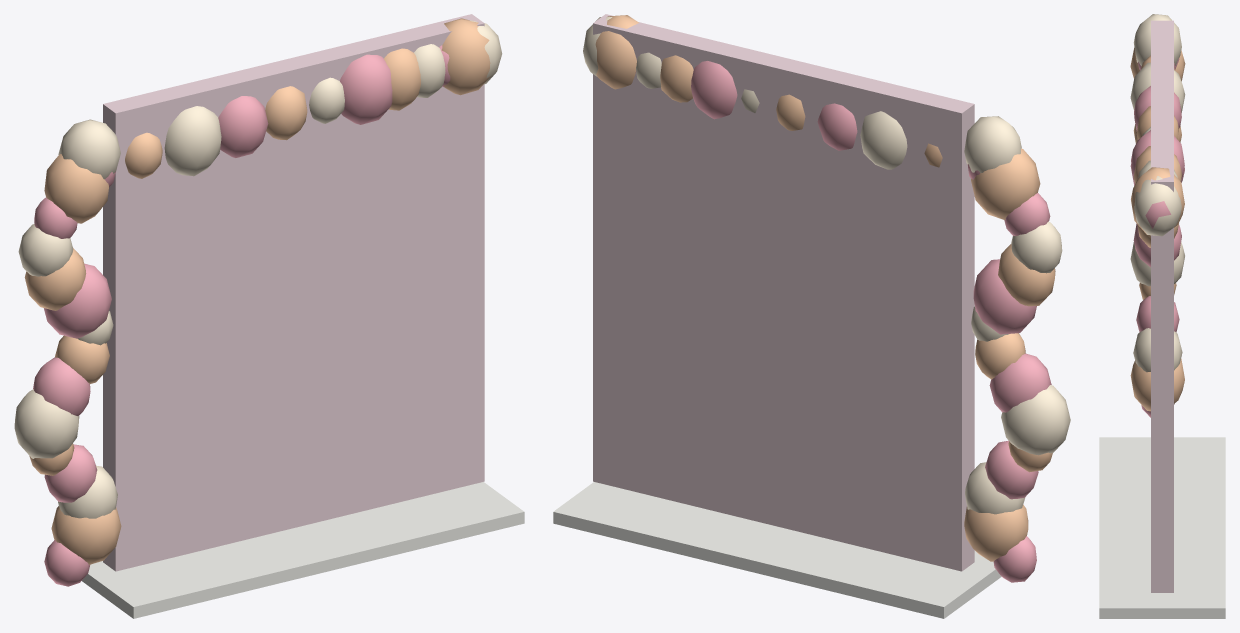
File: backdrop-balloon-garland.glb
3 views of the same model, side by side, from view 1: azimuth 30°, elevation 25°; view 2: azimuth 150°, elevation 25°; view 3: azimuth 270°, elevation 25° (orthographic). The views are drawn at different scales.
Visible parts, largest first — view 1: BS_PhotoWall, BS_WallFoot, BS_Balloon_05, BS_Balloon_17, BS_Balloon_21, BS_Balloon_13, BS_Balloon_25, BS_Balloon_09, BS_Balloon_01, BS_Balloon_14, BS_Balloon_18, BS_Balloon_06 (+14 smaller); view 2: BS_PhotoWall, BS_WallFoot, BS_Balloon_05, BS_Balloon_13, BS_Balloon_09, BS_Balloon_01, BS_Balloon_14, BS_Balloon_06, BS_Balloon_25, BS_Balloon_17, BS_Balloon_21, BS_Balloon_10 (+10 smaller); view 3: BS_WallFoot, BS_PhotoWall, BS_Balloon_26, BS_Balloon_01, BS_Balloon_14, BS_Balloon_02, BS_Balloon_17, BS_Balloon_05, BS_Balloon_25, BS_Balloon_21, BS_Balloon_18, BS_Balloon_06 (+5 smaller).
Part boxes in pixels (x1,y1,x2,y2): BS_PhotoWall: (103, 14, 484, 571); BS_WallFoot: (82, 482, 524, 618); BS_Balloon_05: (14, 389, 79, 458); BS_Balloon_17: (164, 106, 221, 176); BS_Balloon_21: (340, 54, 392, 124); BS_Balloon_13: (44, 154, 108, 223); BS_Balloon_25: (442, 18, 490, 95); BS_Balloon_09: (44, 263, 111, 338); BS_Balloon_01: (51, 506, 121, 564); BS_Balloon_14: (58, 119, 120, 179); BS_Balloon_18: (218, 96, 268, 157); BS_Balloon_06: (33, 357, 90, 415); BS_PhotoWall: (593, 14, 974, 571); BS_WallFoot: (553, 482, 1001, 618); BS_Balloon_05: (1001, 385, 1070, 455); BS_Balloon_13: (971, 148, 1040, 219); BS_Balloon_09: (973, 259, 1036, 334); BS_Balloon_01: (964, 504, 1028, 561); BS_Balloon_14: (964, 116, 1021, 173); BS_Balloon_06: (989, 353, 1051, 412); BS_Balloon_25: (595, 15, 638, 89); BS_Balloon_17: (860, 111, 907, 169); BS_Balloon_21: (691, 61, 737, 119); BS_Balloon_10: (998, 244, 1055, 306); BS_WallFoot: (1099, 437, 1225, 618); BS_PhotoWall: (1151, 20, 1173, 592); BS_Balloon_26: (1134, 176, 1181, 236); BS_Balloon_01: (1130, 358, 1184, 411); BS_Balloon_14: (1133, 14, 1181, 66); BS_Balloon_02: (1133, 328, 1182, 372); BS_Balloon_17: (1130, 62, 1185, 112); BS_Balloon_05: (1130, 242, 1184, 286); BS_Balloon_25: (1131, 167, 1184, 234); BS_Balloon_21: (1131, 130, 1184, 181); BS_Balloon_18: (1134, 86, 1181, 131); BS_Balloon_06: (1133, 223, 1181, 267).
Size of the model in its own units: 2.17 by 2.1 by 0.55.
